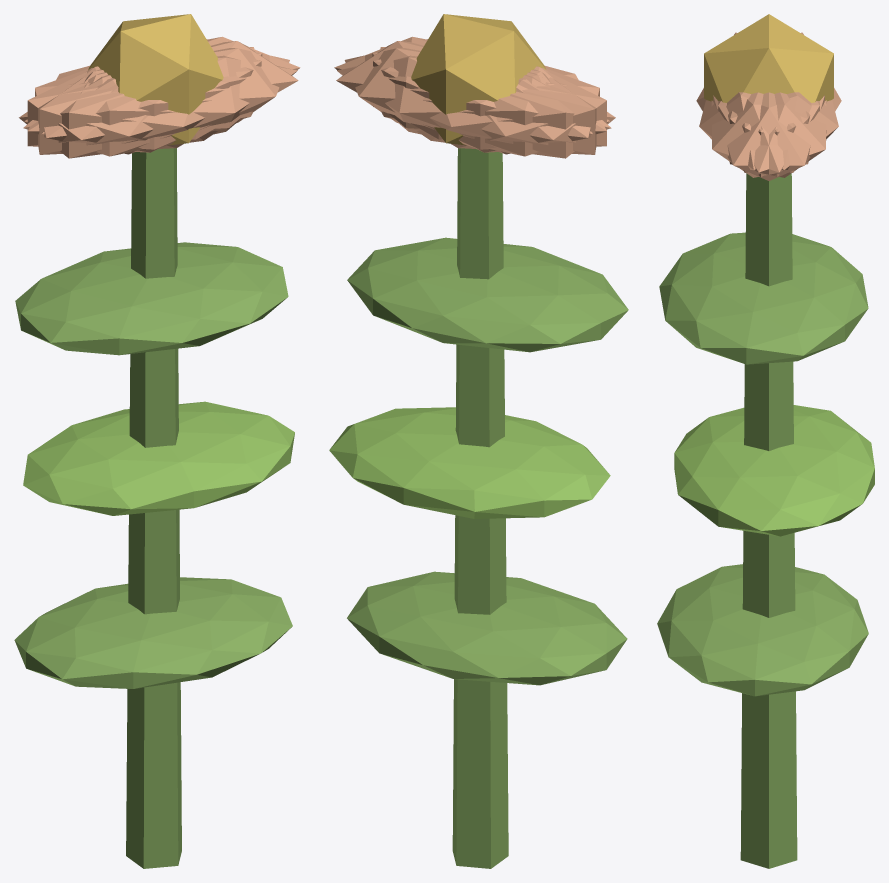
The model's file is pilea-cadierei.glb.
3 views of the same model, side by side, from view 1: azimuth 30°, elevation 25°; view 2: azimuth 150°, elevation 25°; view 3: azimuth 270°, elevation 25° (orthographic).
Parts seen in each view (by area): view 1: stem, leaf2, leaf0, leaf1, center, petal1, petal6, petal2, petal5, petal7, petal0, petal4 (+2 smaller); view 2: stem, leaf2, leaf1, leaf0, center, petal8, petal3, petal7, petal4, petal2, petal0, petal5 (+2 smaller); view 3: stem, leaf2, leaf1, leaf0, center, petal0, petal4, petal5, petal1, petal8.
Boxes of the visible parts, <box> form: stem: <box>126,148,181,868</box>; leaf2: <box>15,242,288,355</box>; leaf0: <box>14,577,292,688</box>; leaf1: <box>23,401,294,515</box>; center: <box>88,14,223,145</box>; petal1: <box>23,55,297,156</box>; petal6: <box>19,68,217,158</box>; petal2: <box>38,47,254,154</box>; petal5: <box>42,48,289,149</box>; petal7: <box>27,52,262,152</box>; petal0: <box>88,41,298,139</box>; petal4: <box>24,36,300,131</box>; stem: <box>452,148,508,868</box>; leaf2: <box>347,237,628,352</box>; leaf1: <box>329,407,610,518</box>; leaf0: <box>347,571,627,685</box>; center: <box>411,14,546,145</box>; petal8: <box>337,55,611,156</box>; petal3: <box>417,68,615,158</box>; petal7: <box>380,47,596,154</box>; petal4: <box>344,48,592,149</box>; petal2: <box>372,52,606,152</box>; petal0: <box>336,41,546,139</box>; petal5: <box>334,36,610,131</box>; stem: <box>740,173,797,868</box>; leaf2: <box>659,232,868,364</box>; leaf1: <box>674,405,874,536</box>; leaf0: <box>657,564,868,696</box>; center: <box>704,14,833,102</box>; petal0: <box>713,92,824,180</box>; petal4: <box>718,92,826,177</box>; petal5: <box>711,92,819,177</box>; petal1: <box>699,92,810,170</box>; petal8: <box>728,92,838,170</box>.
Bounding box in the file's own units: 0.1452 × 0.4286 × 0.1025.
